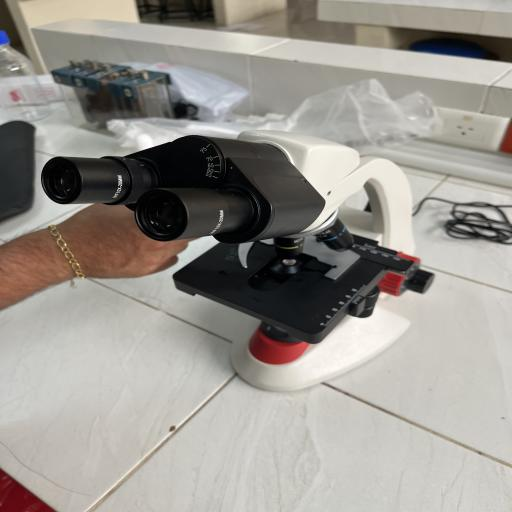Microscopio_Binocular: (34, 108, 445, 408)
